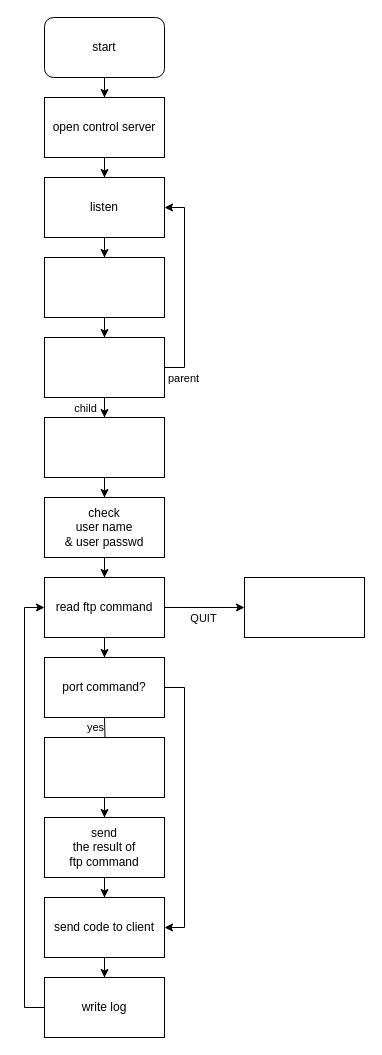
The diagram is 382 pixels wide and 1055 high, and some of its shapes have lost their labels. The shapes that lost their labels are listed below. From the top down, each one's box as (x1, y1, x2, y2) in pixels, then its label:
(44, 256, 164, 318): accept client
(44, 336, 164, 398): fork()
(44, 416, 164, 478): check clients' ip
(244, 576, 364, 638): exit
(44, 736, 164, 798): connect data connection
